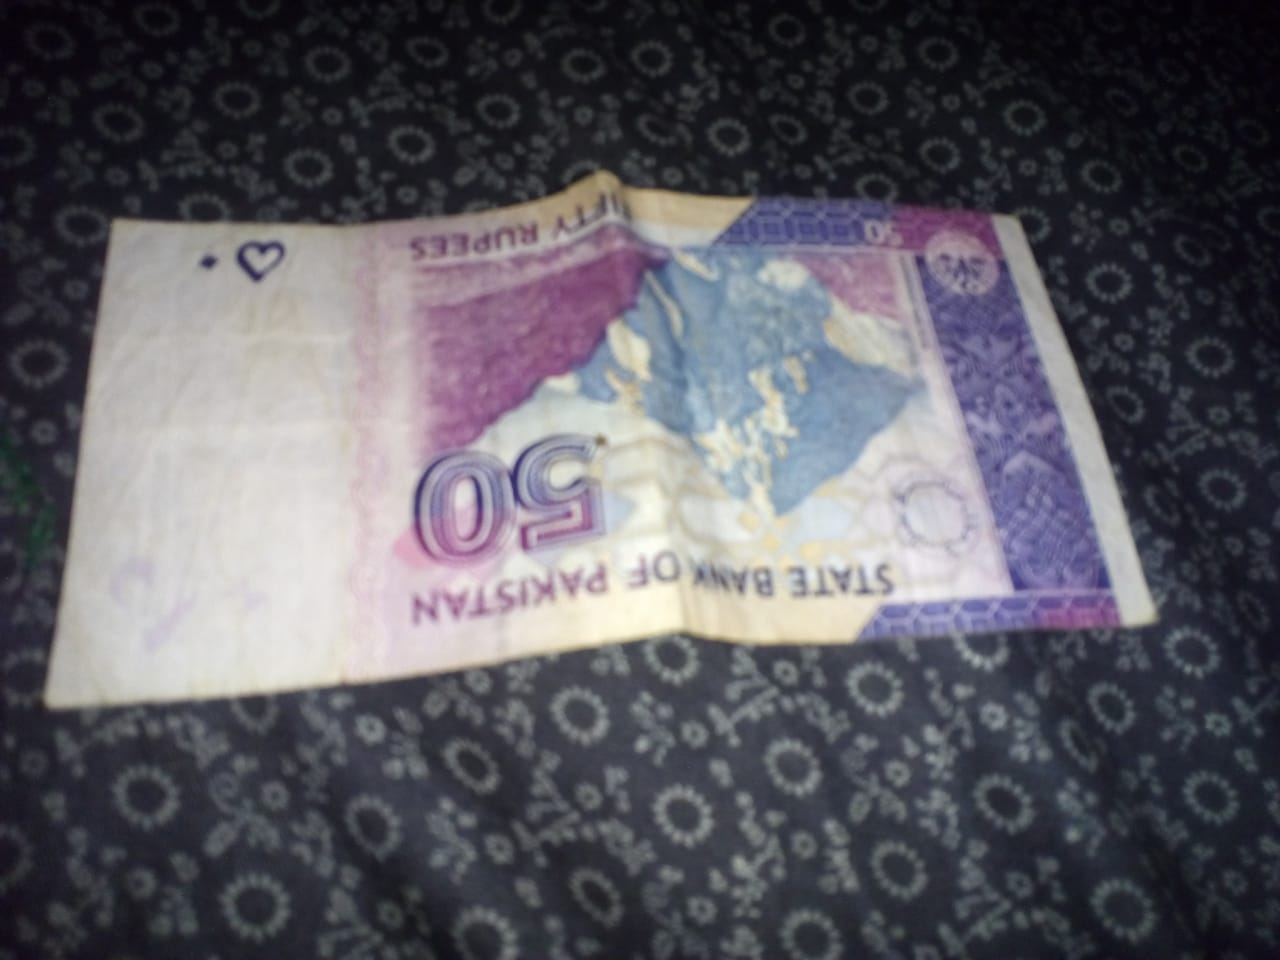50 rupee: (31, 159, 1161, 707)
